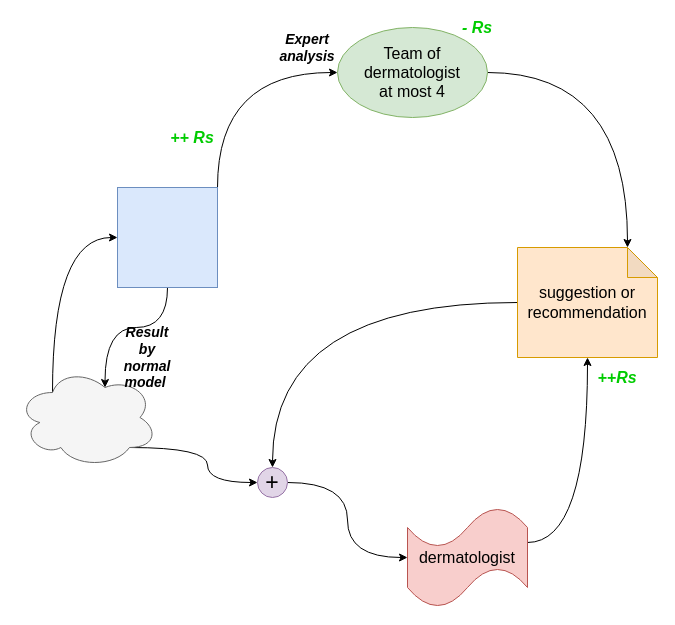
The diagram is 675 pixels wide and 625 high, and some of its shapes have lost their labels. Each missing label, with the centre of its shape:
patients' skin images: (x=87, y=417)
upload the images: (x=167, y=237)
